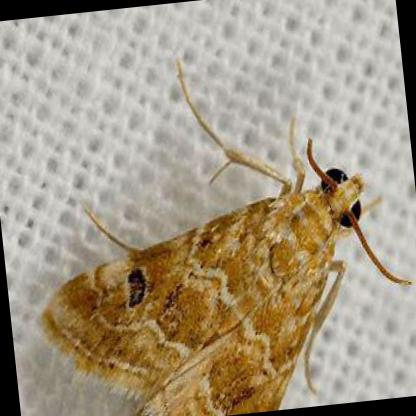Hellula undalis: (31, 47, 416, 408)
